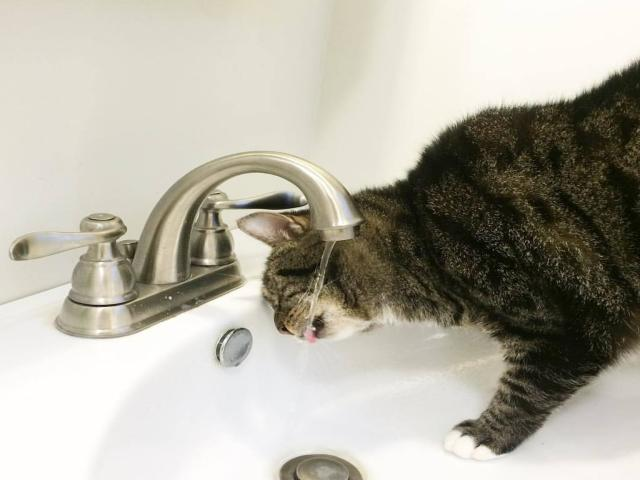Cat: (233, 57, 640, 461)
